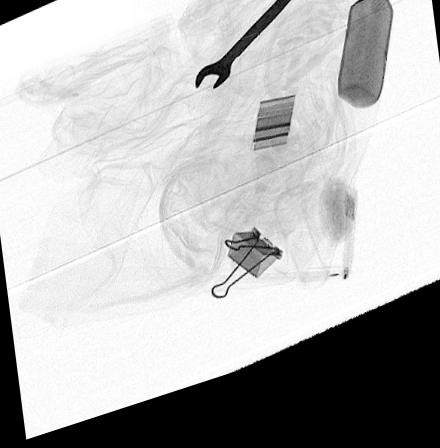Wrench: (195, 0, 317, 104)
